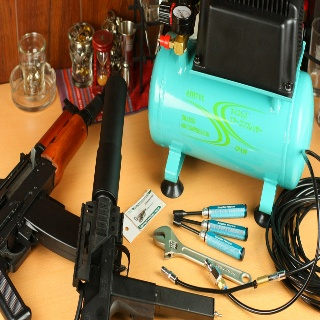rifle: (74, 74, 219, 320), (1, 75, 104, 320)
